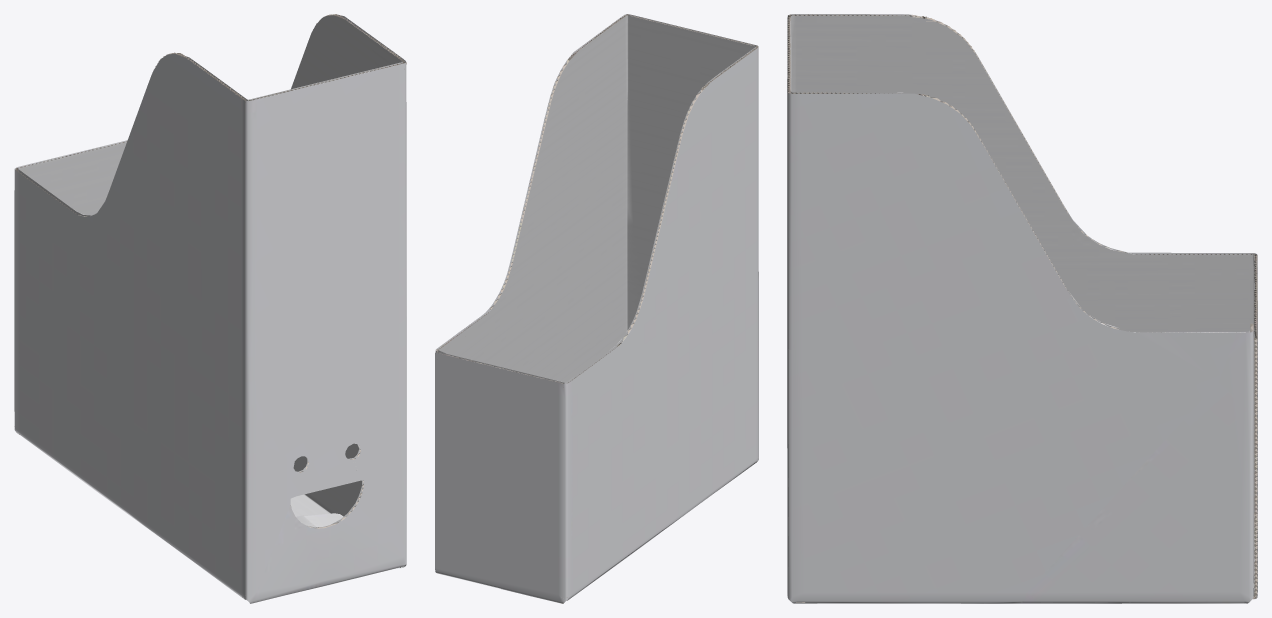
The picture shows the model from 3 angles, left to right: view 1: azimuth 30°, elevation 25°; view 2: azimuth 150°, elevation 25°; view 3: azimuth 270°, elevation 25°; orthographic projection. The views are drawn at different scales.
Visible parts, largest first — view 1: model; view 2: model; view 3: model.
Part boxes in pixels (x1,y1,x2,y2): model: [14, 14, 406, 603]; model: [435, 14, 758, 603]; model: [787, 14, 1257, 603].
Size of the model in its own units: 0.1001 by 0.3 by 0.25.
1 material, 1 textured.
